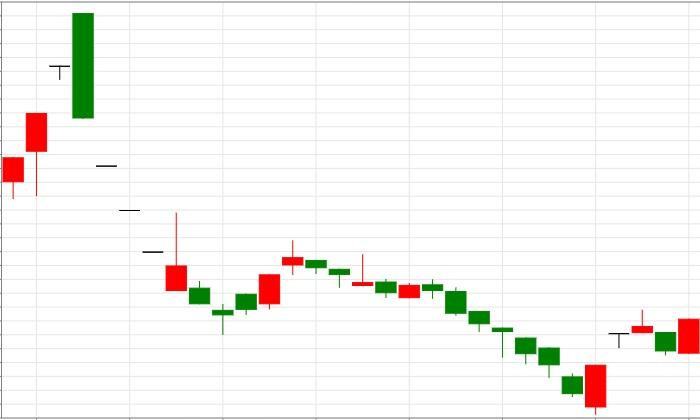bullish_engulfing_rise: (282, 239, 607, 415)
inverse_hammer_rise: (49, 13, 187, 292)
